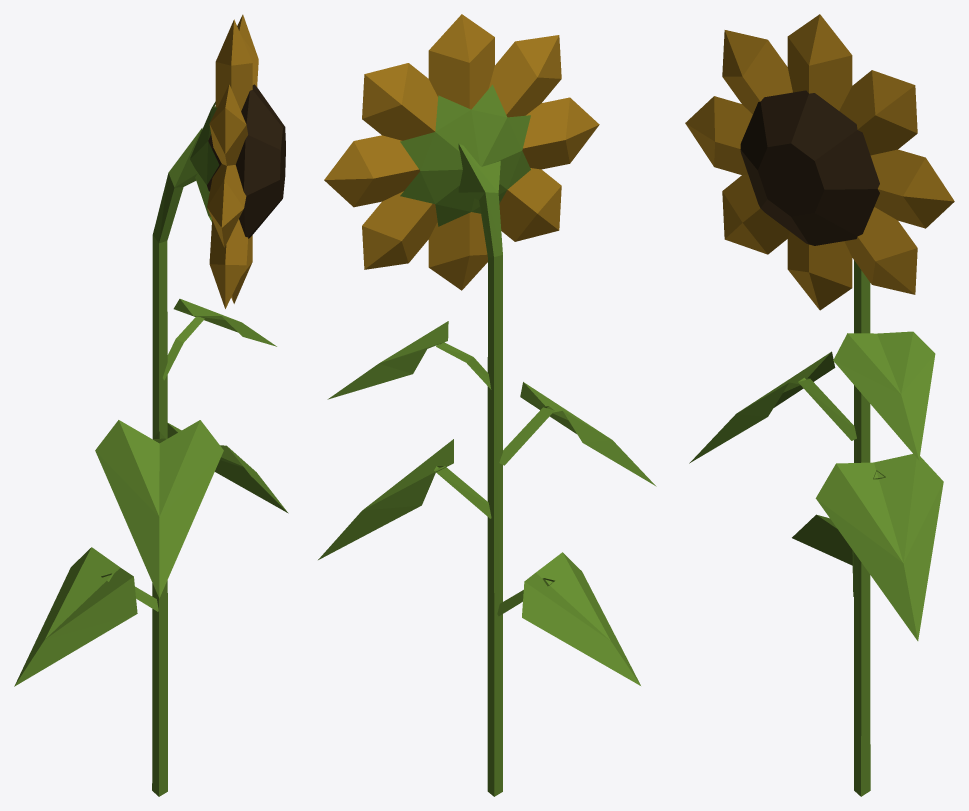
The model's file is sunflower.obj.
3 renders of one model, left to right at view 1: azimuth 30°, elevation 25°; view 2: azimuth 150°, elevation 25°; view 3: azimuth 270°, elevation 25°, orthographic. The views are drawn at different scales.
Parts seen in each view (by area): view 1: sunFlower; view 2: sunFlower; view 3: sunFlower.
Boxes of the visible parts, x1,y1,x2,y2 form: sunFlower: (14, 14, 288, 796); sunFlower: (318, 14, 656, 796); sunFlower: (685, 14, 954, 796).
Bounding box in the file's own units: 1.41 × 3.43 × 1.04.
